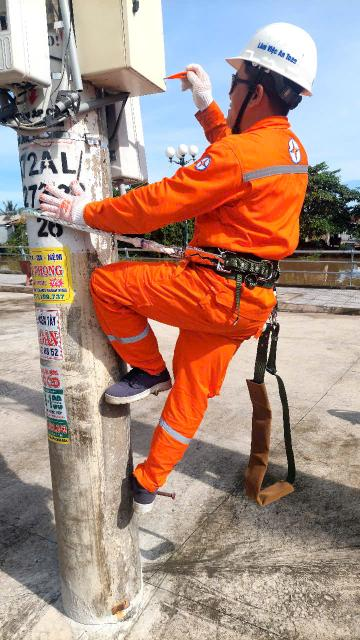gloves: (18, 175, 102, 238), (173, 63, 219, 112)
harness: (177, 232, 311, 302)
helmet: (219, 23, 331, 97)
shoes: (69, 354, 182, 412), (123, 454, 190, 538)
